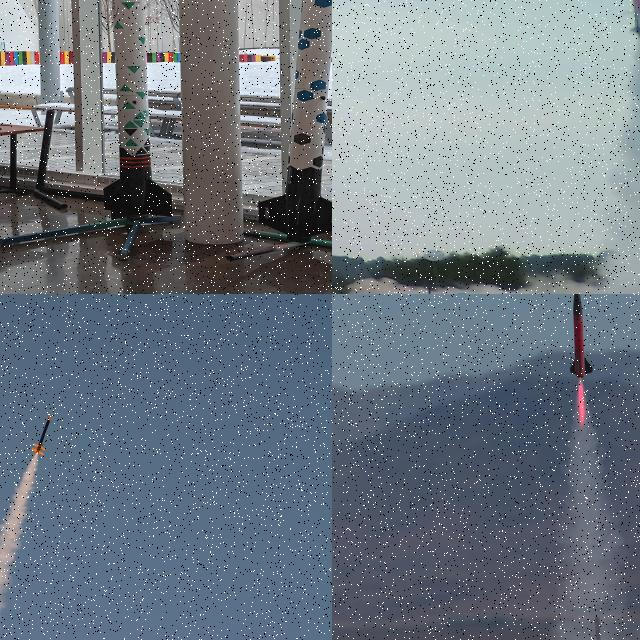Rocket: (104, 0, 172, 220), (568, 294, 593, 380), (31, 415, 52, 456), (629, 0, 640, 37)
